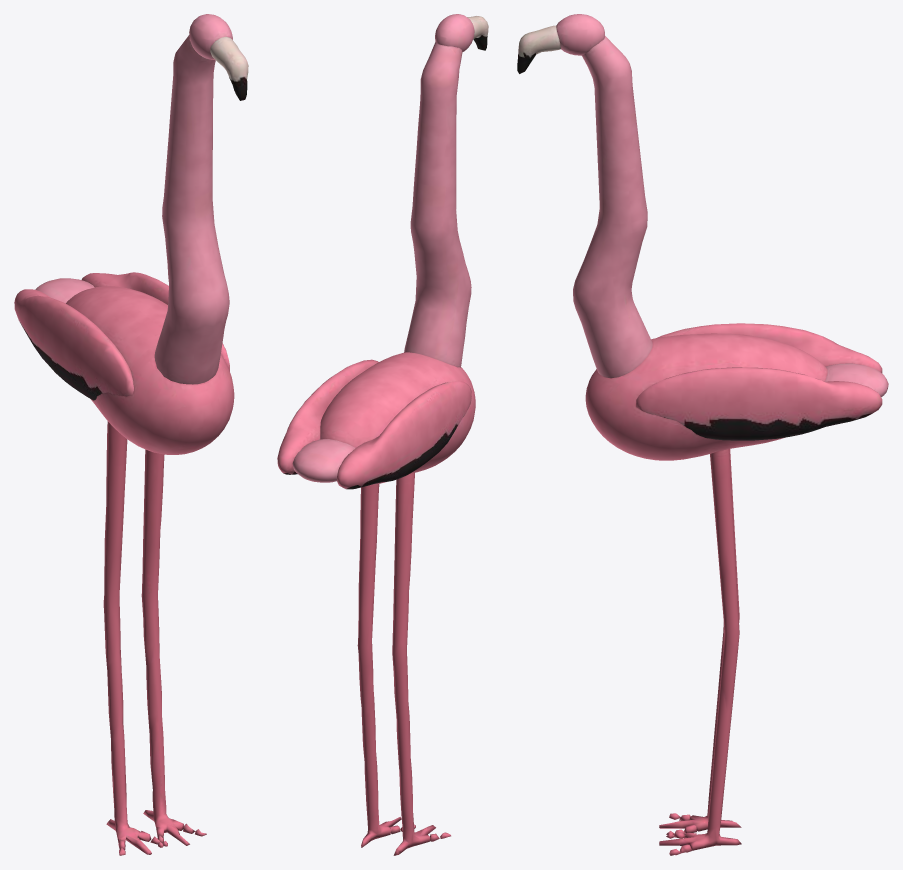
Rendered from animal_flamingo.glb.
3 views of the same model, side by side, from view 1: azimuth 30°, elevation 25°; view 2: azimuth 150°, elevation 25°; view 3: azimuth 270°, elevation 25° (orthographic). The views are drawn at different scales.
Visible parts, largest first — view 1: animal_flamingo, head, leg0, leg1; view 2: animal_flamingo, head, leg0, leg1; view 3: animal_flamingo, head, leg1, leg0.
Boxes of the visible parts, bbox=[...] form: animal_flamingo: bbox=[14, 272, 234, 454]; head: bbox=[154, 14, 248, 384]; leg0: bbox=[103, 421, 167, 855]; leg1: bbox=[141, 449, 206, 847]; animal_flamingo: bbox=[277, 352, 475, 489]; head: bbox=[404, 14, 488, 367]; leg0: bbox=[392, 472, 450, 855]; leg1: bbox=[357, 484, 415, 847]; animal_flamingo: bbox=[585, 323, 888, 460]; head: bbox=[517, 14, 652, 378]; leg1: bbox=[659, 449, 741, 855]; leg0: bbox=[659, 449, 741, 838].
Bounding box in the file's own units: 0.1176 × 0.8101 × 0.3319.
1 material, 1 textured.
